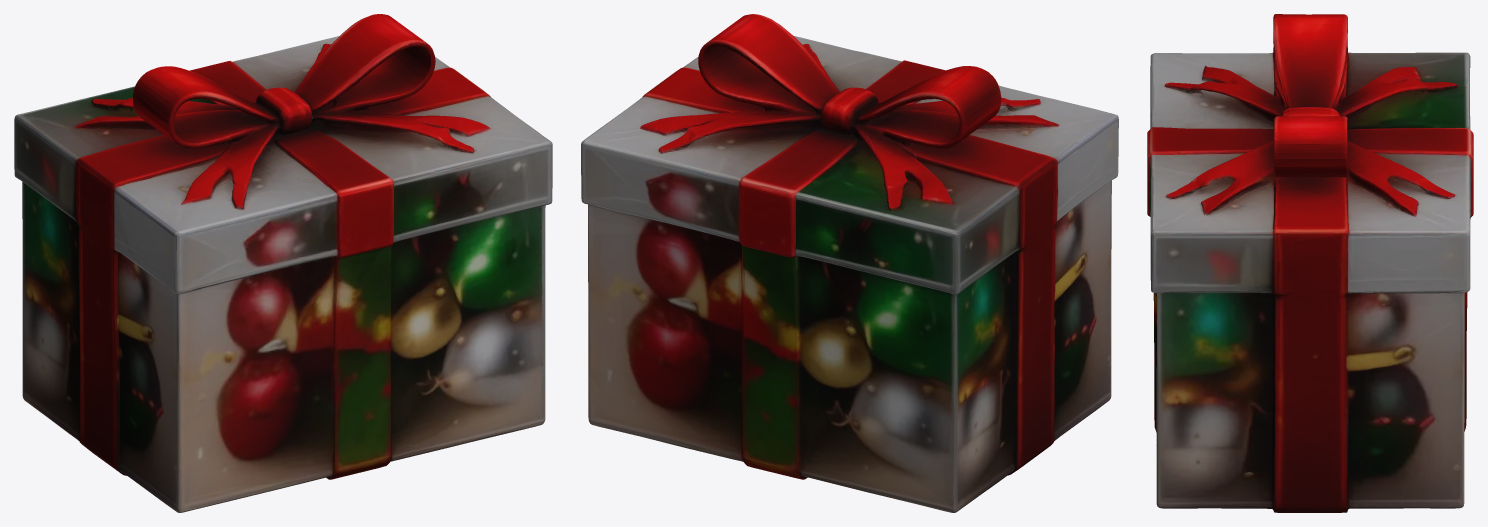
3 views of the same model, side by side, from view 1: azimuth 30°, elevation 25°; view 2: azimuth 150°, elevation 25°; view 3: azimuth 270°, elevation 25° (orthographic). The views are drawn at different scales.
Visible parts, largest first — view 1: world; view 2: world; view 3: world.
Part boxes in pixels (left/top/right/bottom): world: left=14, top=14, right=552, bottom=512; world: left=581, top=14, right=1118, bottom=512; world: left=1147, top=14, right=1473, bottom=512.
Bounding box in the file's own units: 0.9911 × 0.9172 × 0.7542.
Materials: 1 (1 with a texture image).
